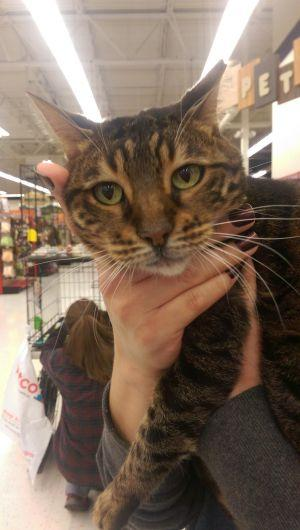bengal: (13, 53, 281, 288)
